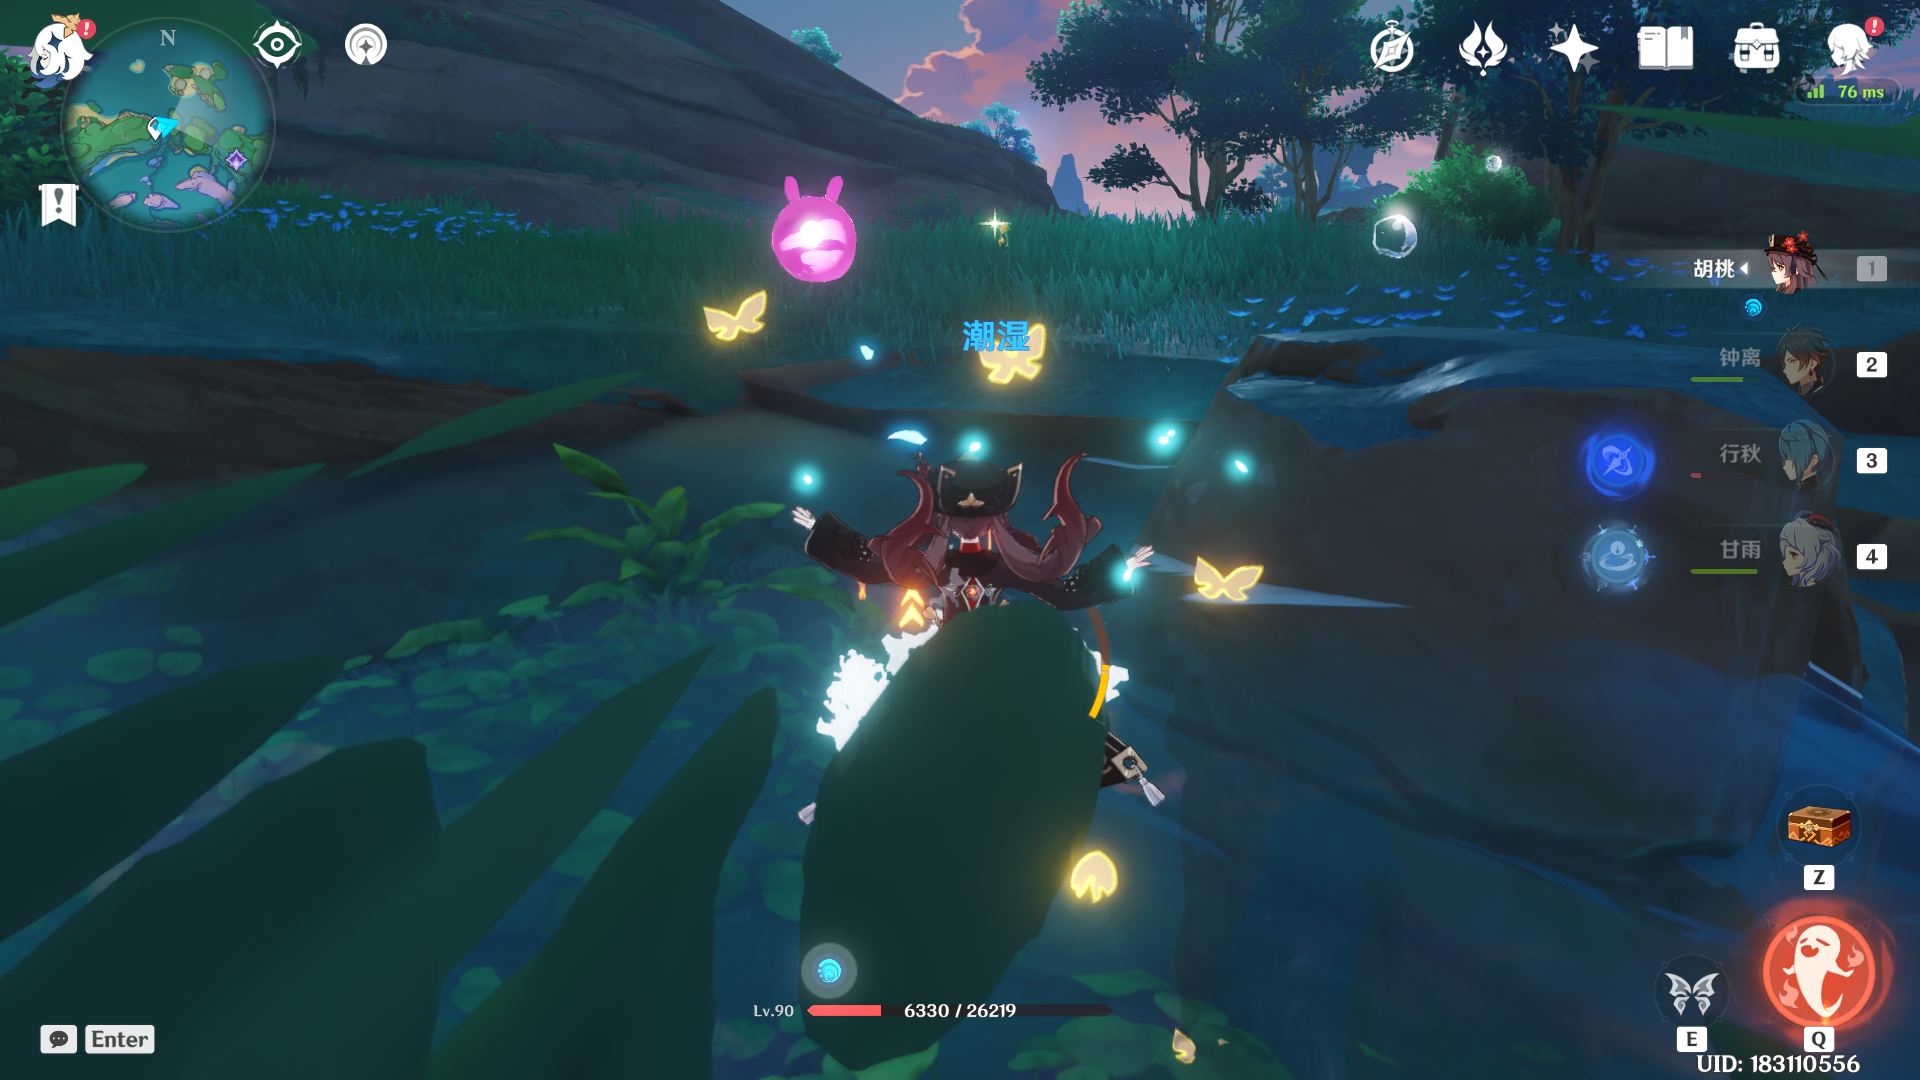character: (804, 404, 1193, 845)
